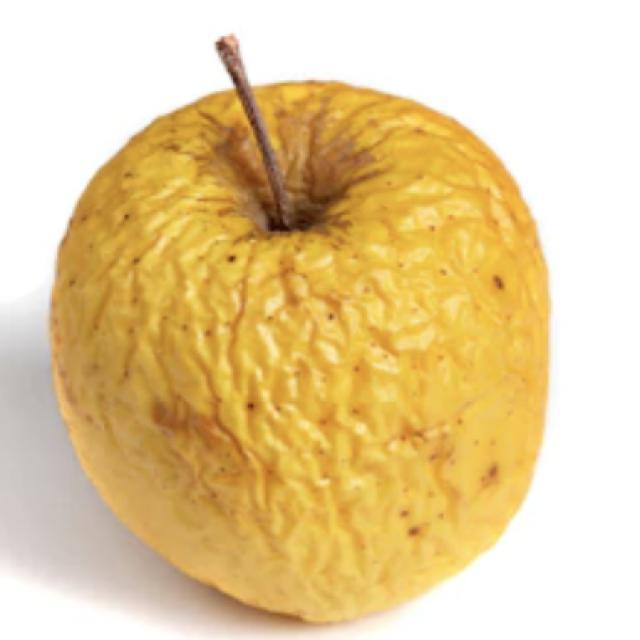Rotten: (67, 70, 553, 625)
